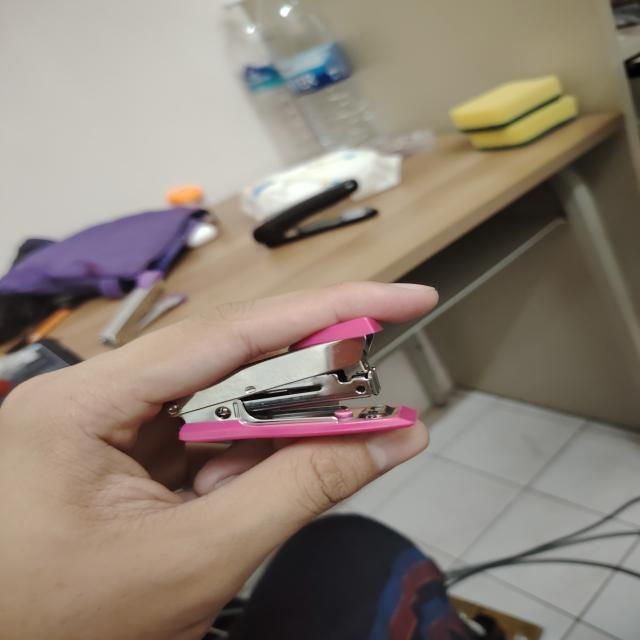stapler: (164, 317, 416, 443), (254, 180, 377, 248), (99, 271, 186, 347)
